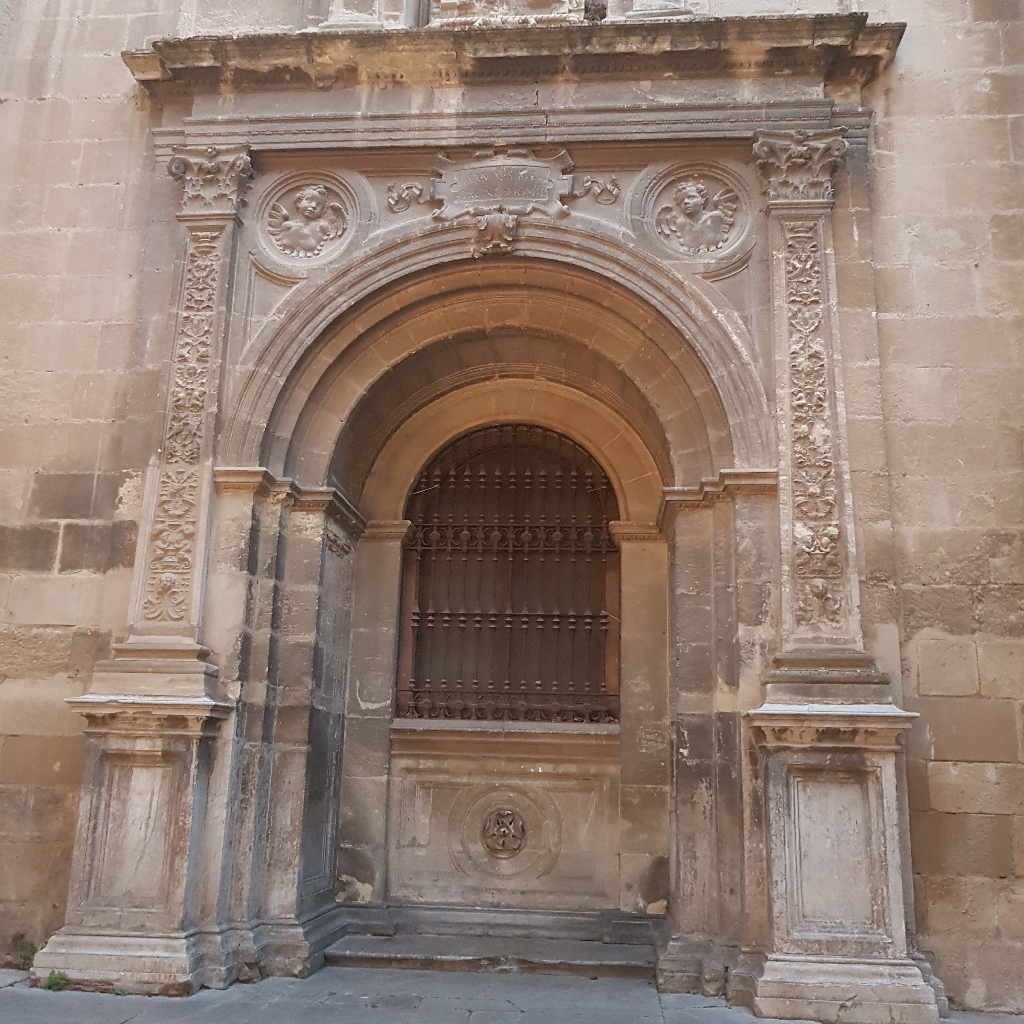arco-medio-punto: (236, 234, 752, 547)
